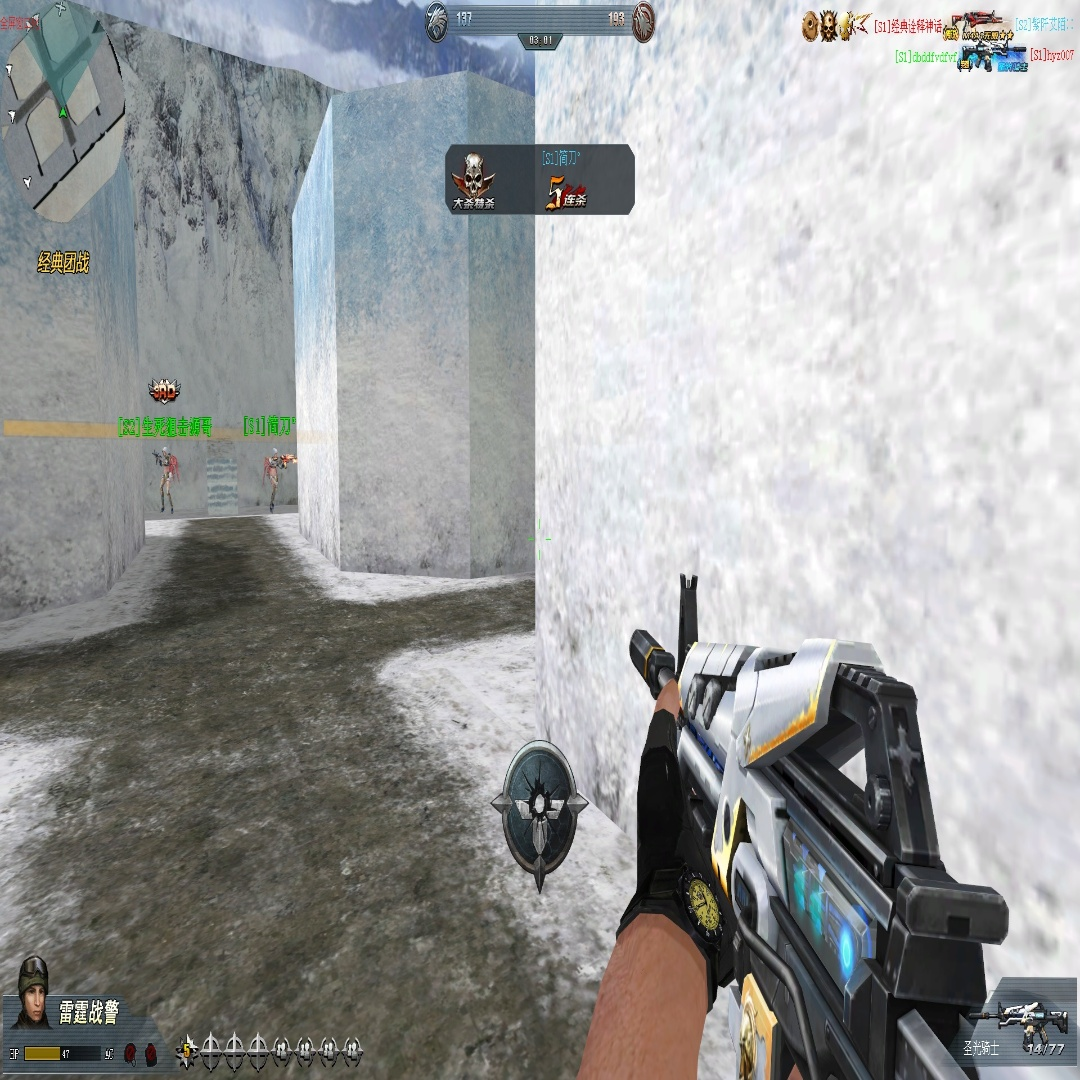ct: (155, 444, 174, 520), (266, 448, 279, 517)
